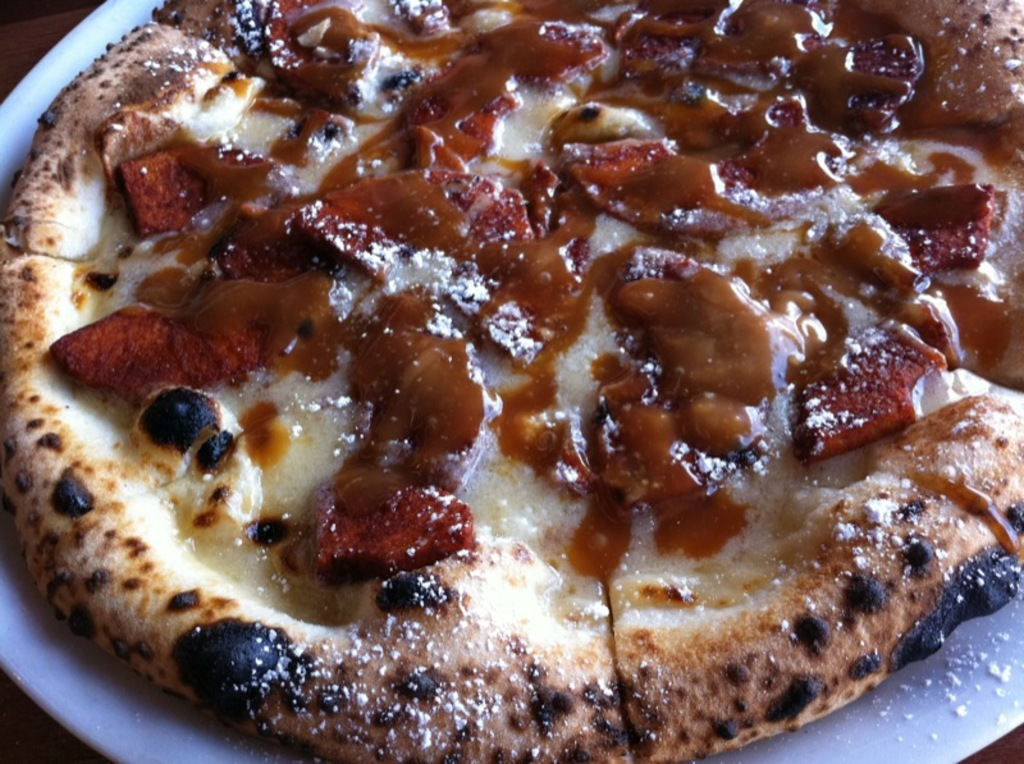Pizza: (1, 1, 1022, 761)
